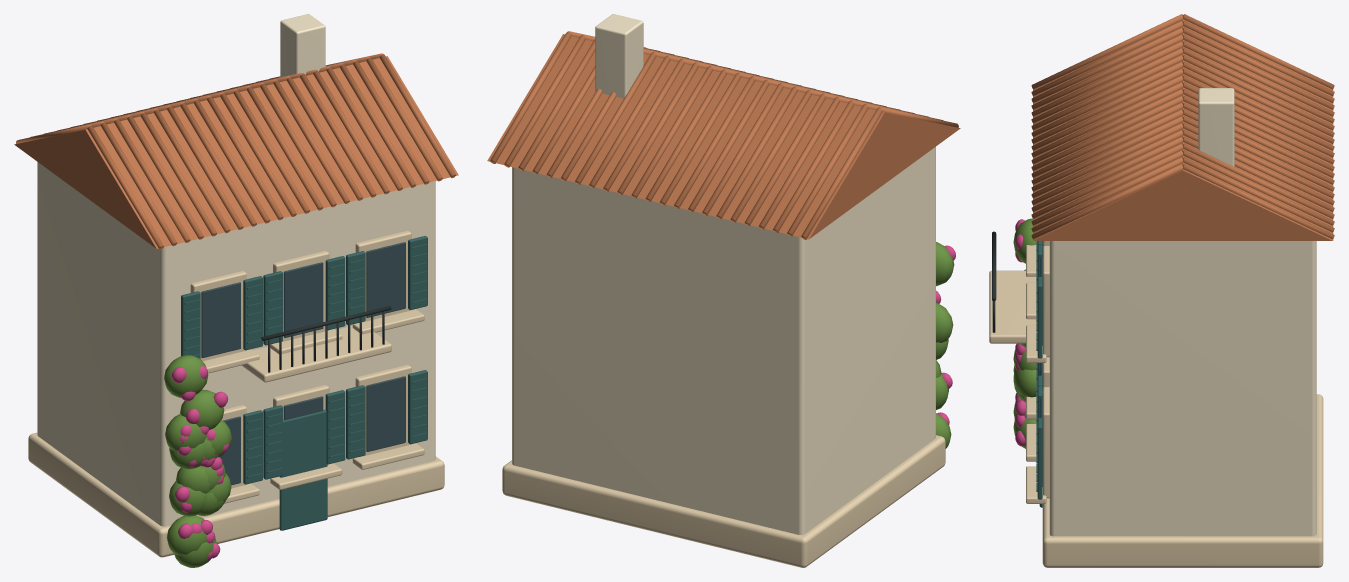
The model's file is villa.glb.
The picture shows the model from 3 angles, left to right: view 1: azimuth 30°, elevation 25°; view 2: azimuth 150°, elevation 25°; view 3: azimuth 270°, elevation 25°; orthographic projection. The views are drawn at different scales.
Visible parts, largest first — view 1: Villa_plaster, Pitched_terracotta_roof, Stone_foundation, Door, Balcony_slab, Recessed_window.001, Recessed_window.004, Recessed_window.003, Recessed_window.005, Chimney, Shutter.005, Shutter.007 (+52 smaller); view 2: Villa_plaster, Pitched_terracotta_roof, Stone_foundation, Chimney, Roof_tile_ridge.001, Roof_tile_ridge.003, Roof_tile_ridge.005, Roof_tile_ridge.007, Roof_tile_ridge.009, Roof_tile_ridge.023, Roof_tile_ridge.025, Roof_tile_ridge.043 (+16 smaller); view 3: Villa_plaster, Pitched_terracotta_roof, Stone_foundation, Balcony_slab, Chimney, Roof_tile_ridge.005, Roof_tile_ridge.007, Roof_tile_ridge.041, Roof_tile_ridge, Roof_tile_ridge.009, Roof_tile_ridge.010, Roof_tile_ridge.013 (+47 smaller).
Boxes of the visible parts, <box> form: Villa_plaster: <box>37,162,435,526</box>; Pitched_terracotta_roof: <box>14,56,458,248</box>; Stone_foundation: <box>28,432,444,557</box>; Door: <box>279,409,327,530</box>; Balcony_slab: <box>241,326,391,382</box>; Recessed_window.001: <box>201,282,240,357</box>; Recessed_window.004: <box>366,376,405,451</box>; Recessed_window.003: <box>283,262,323,337</box>; Recessed_window.005: <box>366,242,405,317</box>; Chimney: <box>280,14,325,77</box>; Shutter.005: <box>325,390,345,464</box>; Shutter.007: <box>325,256,345,330</box>; Villa_plaster: <box>512,147,935,534</box>; Pitched_terracotta_roof: <box>487,34,960,239</box>; Stone_foundation: <box>502,435,945,567</box>; Chimney: <box>595,14,643,98</box>; Roof_tile_ridge.001: <box>801,108,882,239</box>; Roof_tile_ridge.003: <box>787,104,868,236</box>; Roof_tile_ridge.005: <box>773,101,854,232</box>; Roof_tile_ridge.007: <box>758,98,840,229</box>; Roof_tile_ridge.009: <box>744,94,826,225</box>; Roof_tile_ridge.023: <box>645,70,727,201</box>; Roof_tile_ridge.025: <box>631,66,712,198</box>; Roof_tile_ridge.043: <box>504,35,585,167</box>; Villa_plaster: <box>1049,241,1316,536</box>; Pitched_terracotta_roof: <box>1033,19,1333,240</box>; Stone_foundation: <box>1042,394,1323,567</box>; Balcony_slab: <box>989,270,1037,343</box>; Chimney: <box>1198,88,1234,166</box>; Roof_tile_ridge.005: <box>1183,27,1334,102</box>; Roof_tile_ridge.007: <box>1183,34,1334,109</box>; Roof_tile_ridge.041: <box>1183,150,1334,225</box>; Roof_tile_ridge: <box>1031,14,1182,89</box>; Roof_tile_ridge.009: <box>1183,41,1334,116</box>; Roof_tile_ridge.010: <box>1031,48,1182,123</box>; Roof_tile_ridge.013: <box>1183,55,1334,130</box>.
Bounding box in the file's own units: 6.6 × 9.01 × 6.21.
